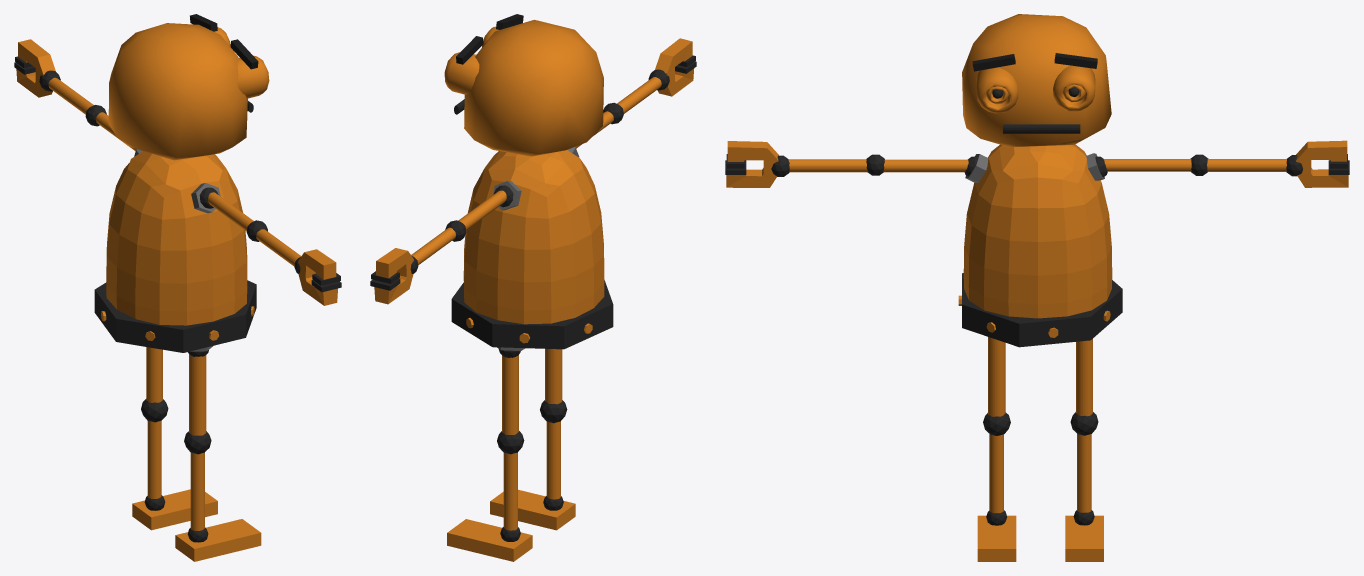
The model's file is robot_ebeishi3.fbx.
The picture shows the model from 3 angles, left to right: view 1: azimuth 30°, elevation 25°; view 2: azimuth 150°, elevation 25°; view 3: azimuth 270°, elevation 25°; orthographic projection.
Parts seen in each view (by area): view 1: Cube.002, Cube, Cylinder.008, Cube.009, Cube.010, Cube.004, Cylinder.011, Cube.003, Cylinder.010, Cylinder.012, Cylinder, Cylinder.013 (+6 smaller); view 2: Cube.002, Cube, Cylinder.008, Cube.010, Cube.009, Cube.003, Cube.004, Cylinder.013, Cylinder.010, Cylinder.012, Cylinder, Cylinder.011 (+6 smaller); view 3: Cube.002, Cube, Cylinder.008, Cylinder, Cube.004, Cube.003, Cube.009, Cube.010, Cylinder.011, Cylinder.013, Cylinder.005, Cylinder.012 (+6 smaller).
Boxes of the visible parts, x1,y1,x2,y2 form: Cube.002: (106, 151, 247, 325); Cube: (108, 23, 247, 160); Cylinder.008: (94, 280, 256, 352); Cube.009: (175, 519, 261, 561); Cube.010: (132, 489, 217, 530); Cube.004: (298, 249, 337, 305); Cylinder.011: (189, 354, 206, 435); Cube.003: (16, 39, 55, 97); Cylinder.010: (190, 452, 204, 530); Cylinder.012: (147, 421, 161, 498); Cylinder: (214, 27, 269, 98); Cylinder.013: (146, 347, 162, 402); Cube.002: (463, 150, 604, 324); Cube: (464, 19, 603, 156); Cylinder.008: (451, 280, 613, 349); Cube.010: (447, 519, 532, 561); Cube.009: (490, 489, 575, 530); Cube.003: (374, 248, 413, 304); Cube.004: (655, 38, 694, 96); Cylinder.013: (502, 355, 518, 434); Cylinder.010: (546, 421, 560, 499); Cylinder.012: (503, 452, 517, 530); Cylinder: (444, 26, 498, 94); Cylinder.011: (545, 349, 562, 404); Cube.002: (963, 144, 1112, 318); Cube: (962, 14, 1111, 147); Cylinder.008: (962, 273, 1122, 347); Cylinder: (976, 66, 1095, 113); Cube.004: (726, 141, 778, 187); Cube.003: (1296, 140, 1348, 187); Cube.009: (977, 515, 1016, 561); Cube.010: (1065, 515, 1103, 561); Cylinder.011: (988, 337, 1005, 416); Cylinder.013: (1076, 339, 1092, 416); Cylinder.005: (883, 159, 968, 172); Cylinder.012: (1077, 433, 1091, 512).
Bounding box in the file's own units: 263 × 904 × 997.
